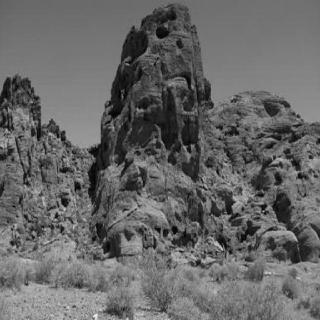other: (119, 140, 237, 254)
